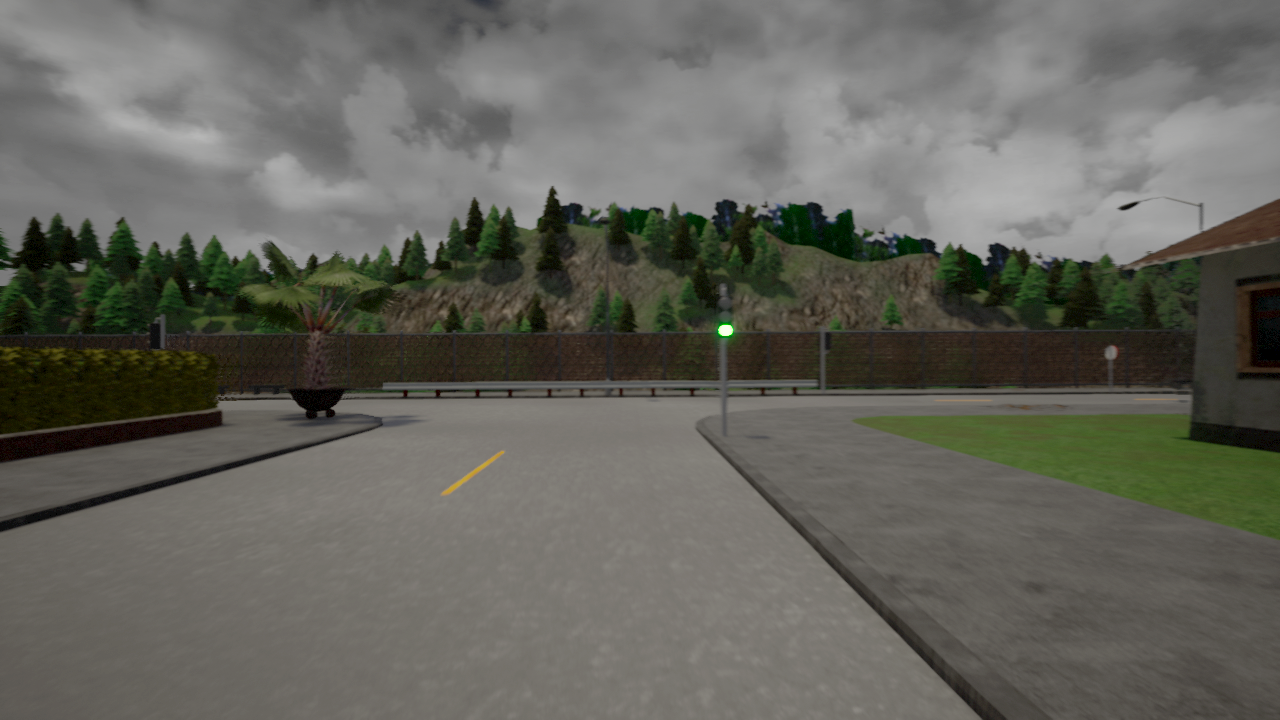green: (716, 294, 736, 337)
